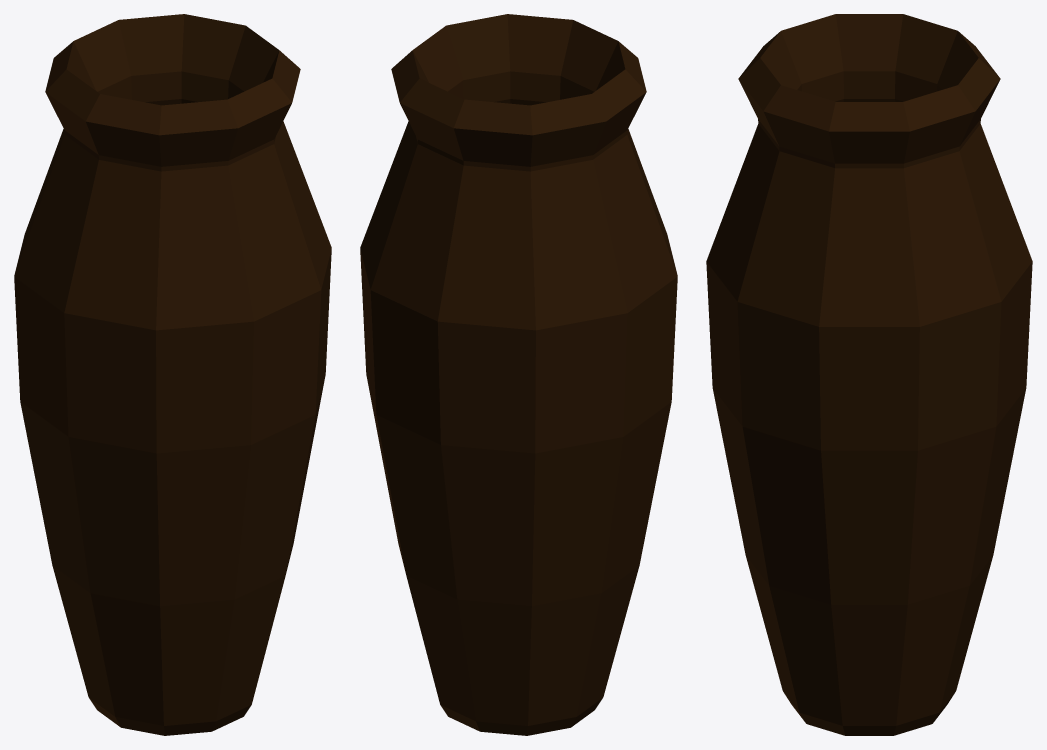
Rendered from Large_Pot_(Outlined)v003.fbx.
3 views of the same model, side by side, from view 1: azimuth 30°, elevation 25°; view 2: azimuth 150°, elevation 25°; view 3: azimuth 270°, elevation 25° (orthographic).
Visible parts, largest first — view 1: Cylinder; view 2: Cylinder; view 3: Cylinder.
Boxes of the visible parts, bbox=[...] form: Cylinder: bbox=[14, 14, 331, 735]; Cylinder: bbox=[360, 14, 677, 735]; Cylinder: bbox=[706, 14, 1032, 735].
Bounding box in the file's own units: 2.91 × 6.69 × 3.06.
